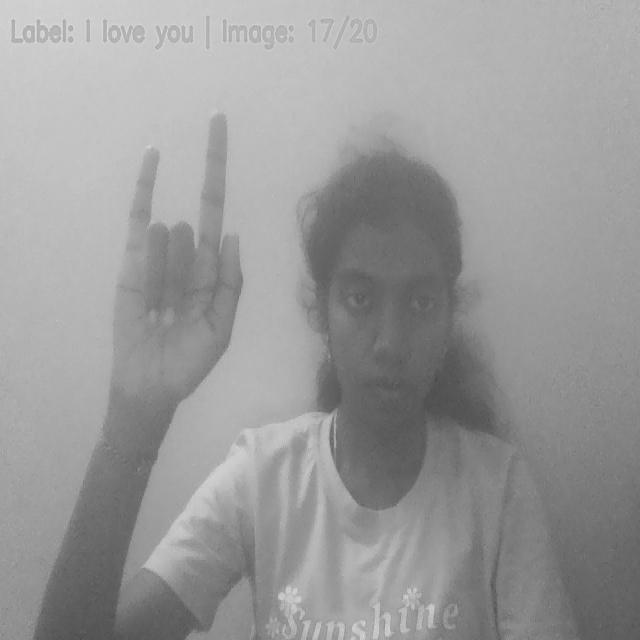I love you: (112, 109, 247, 423)
